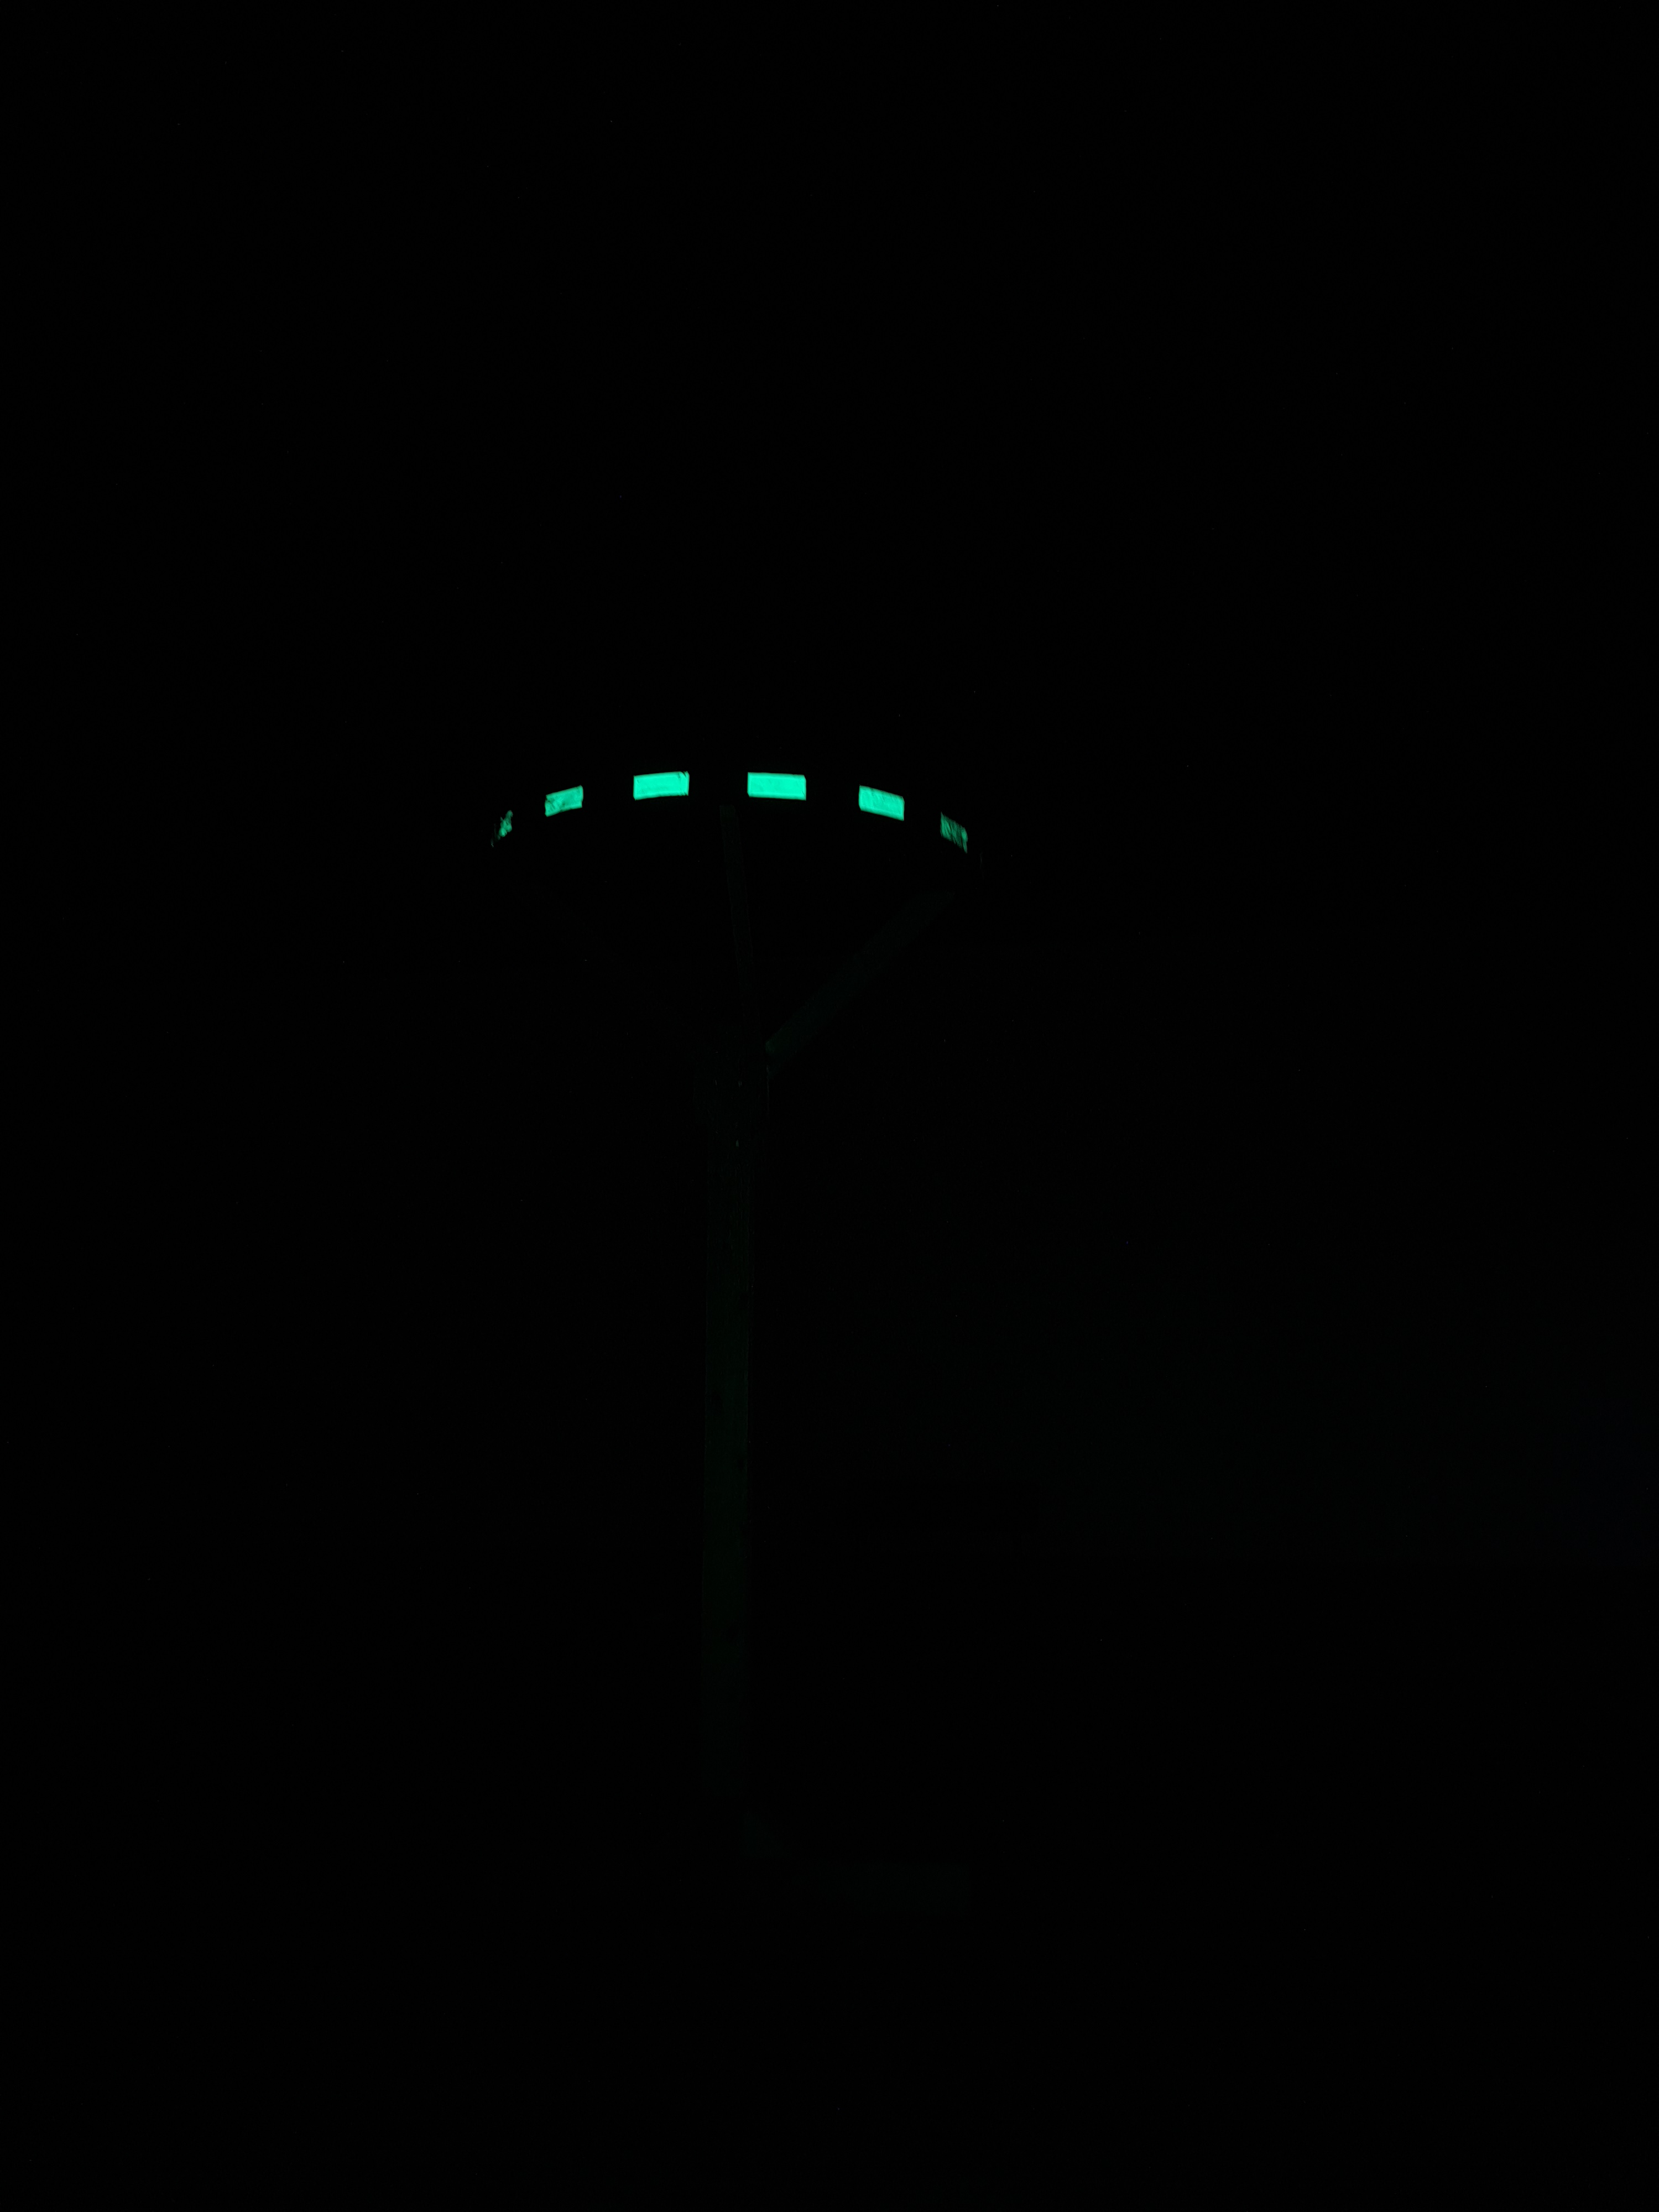hoop: (472, 765, 972, 867)
